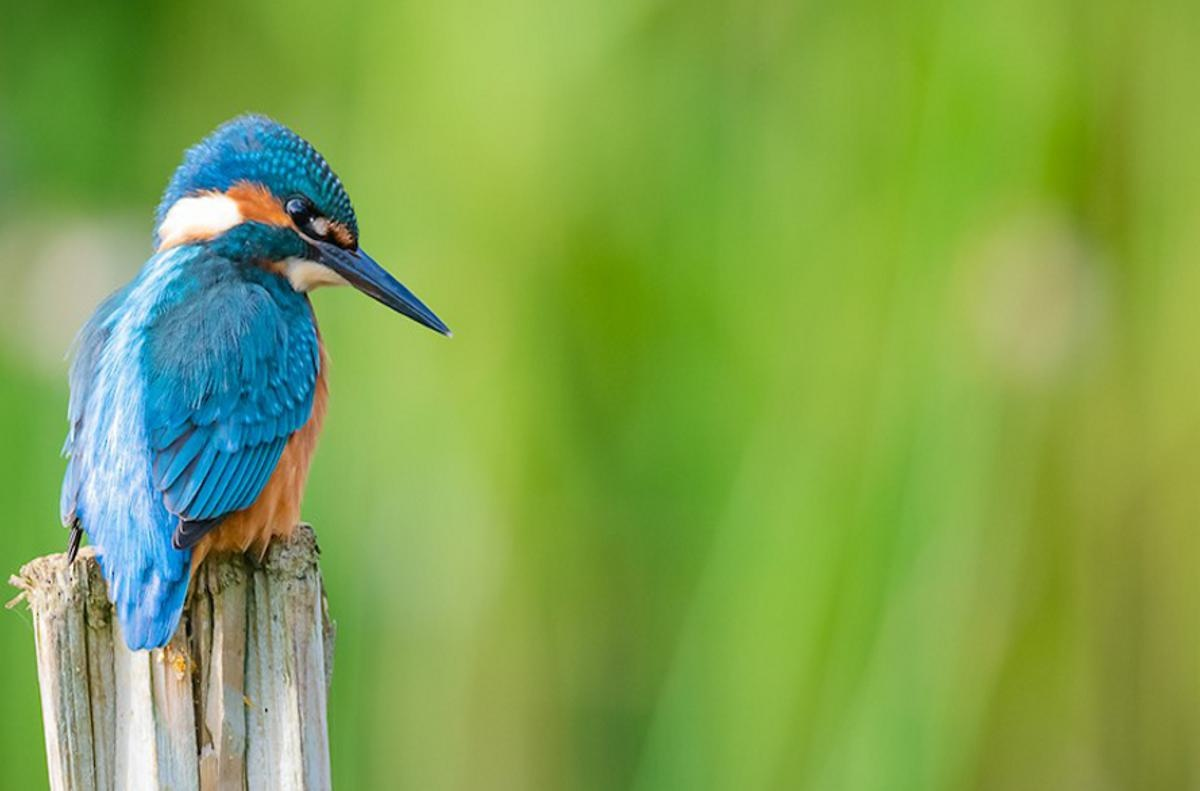kingfisher: (64, 96, 462, 593)
